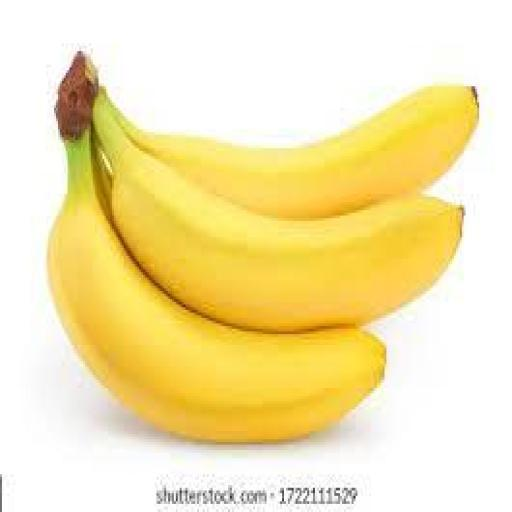banana: (53, 150, 386, 439), (93, 92, 461, 331), (116, 87, 479, 218)
